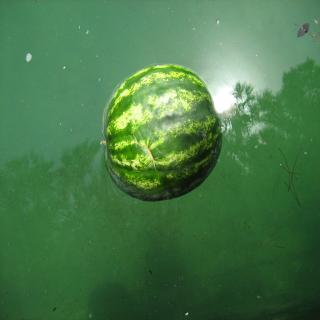Watermelon: (99, 64, 223, 200)
